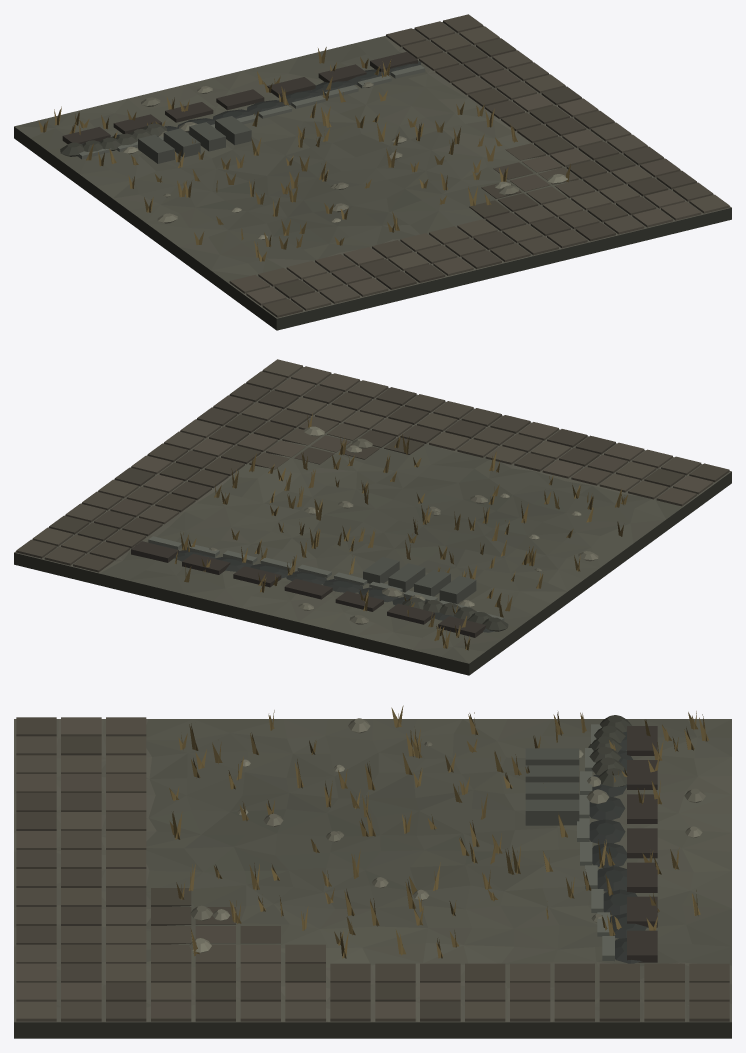
File: CHUNK_oath_battlefield__supply_trenches__00.glb
3 renders of one model, top to bottom at view 1: azimuth 30°, elevation 25°; view 2: azimuth 150°, elevation 25°; view 3: azimuth 270°, elevation 25°, orthographic. The views are drawn at different scales.
Parts seen in each view (by area): view 1: CHUNK_oath_battlefield__supply_trenches__00; view 2: CHUNK_oath_battlefield__supply_trenches__00; view 3: CHUNK_oath_battlefield__supply_trenches__00.
Part boxes in pixels (x1,y1,x2,y2): CHUNK_oath_battlefield__supply_trenches__00: (14, 14, 731, 330); CHUNK_oath_battlefield__supply_trenches__00: (14, 359, 731, 675); CHUNK_oath_battlefield__supply_trenches__00: (14, 705, 731, 1038).
Bounding box in the file's own units: 8 × 0.5607 × 8.
